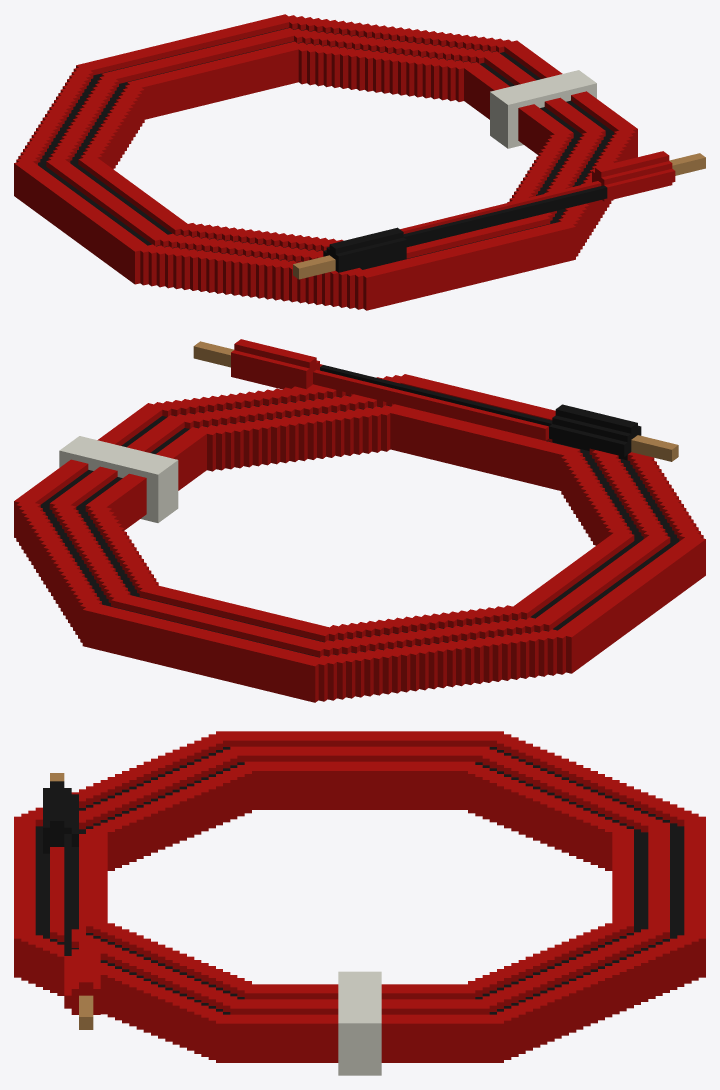
The model's file is speaker_cable.glb.
3 views of the same model, one above another, from view 1: azimuth 30°, elevation 25°; view 2: azimuth 150°, elevation 25°; view 3: azimuth 270°, elevation 25° (orthographic). The views are drawn at different scales.
Visible parts, largest first — view 1: speaker_cable:compound; view 2: speaker_cable:compound; view 3: speaker_cable:compound.
Part boxes in pixels (x1,y1,x2,y2): speaker_cable:compound: [14, 14, 705, 310]; speaker_cable:compound: [14, 339, 705, 702]; speaker_cable:compound: [14, 731, 705, 1075].
Size of the model in its own units: 0.196 by 0.022 by 0.192.
